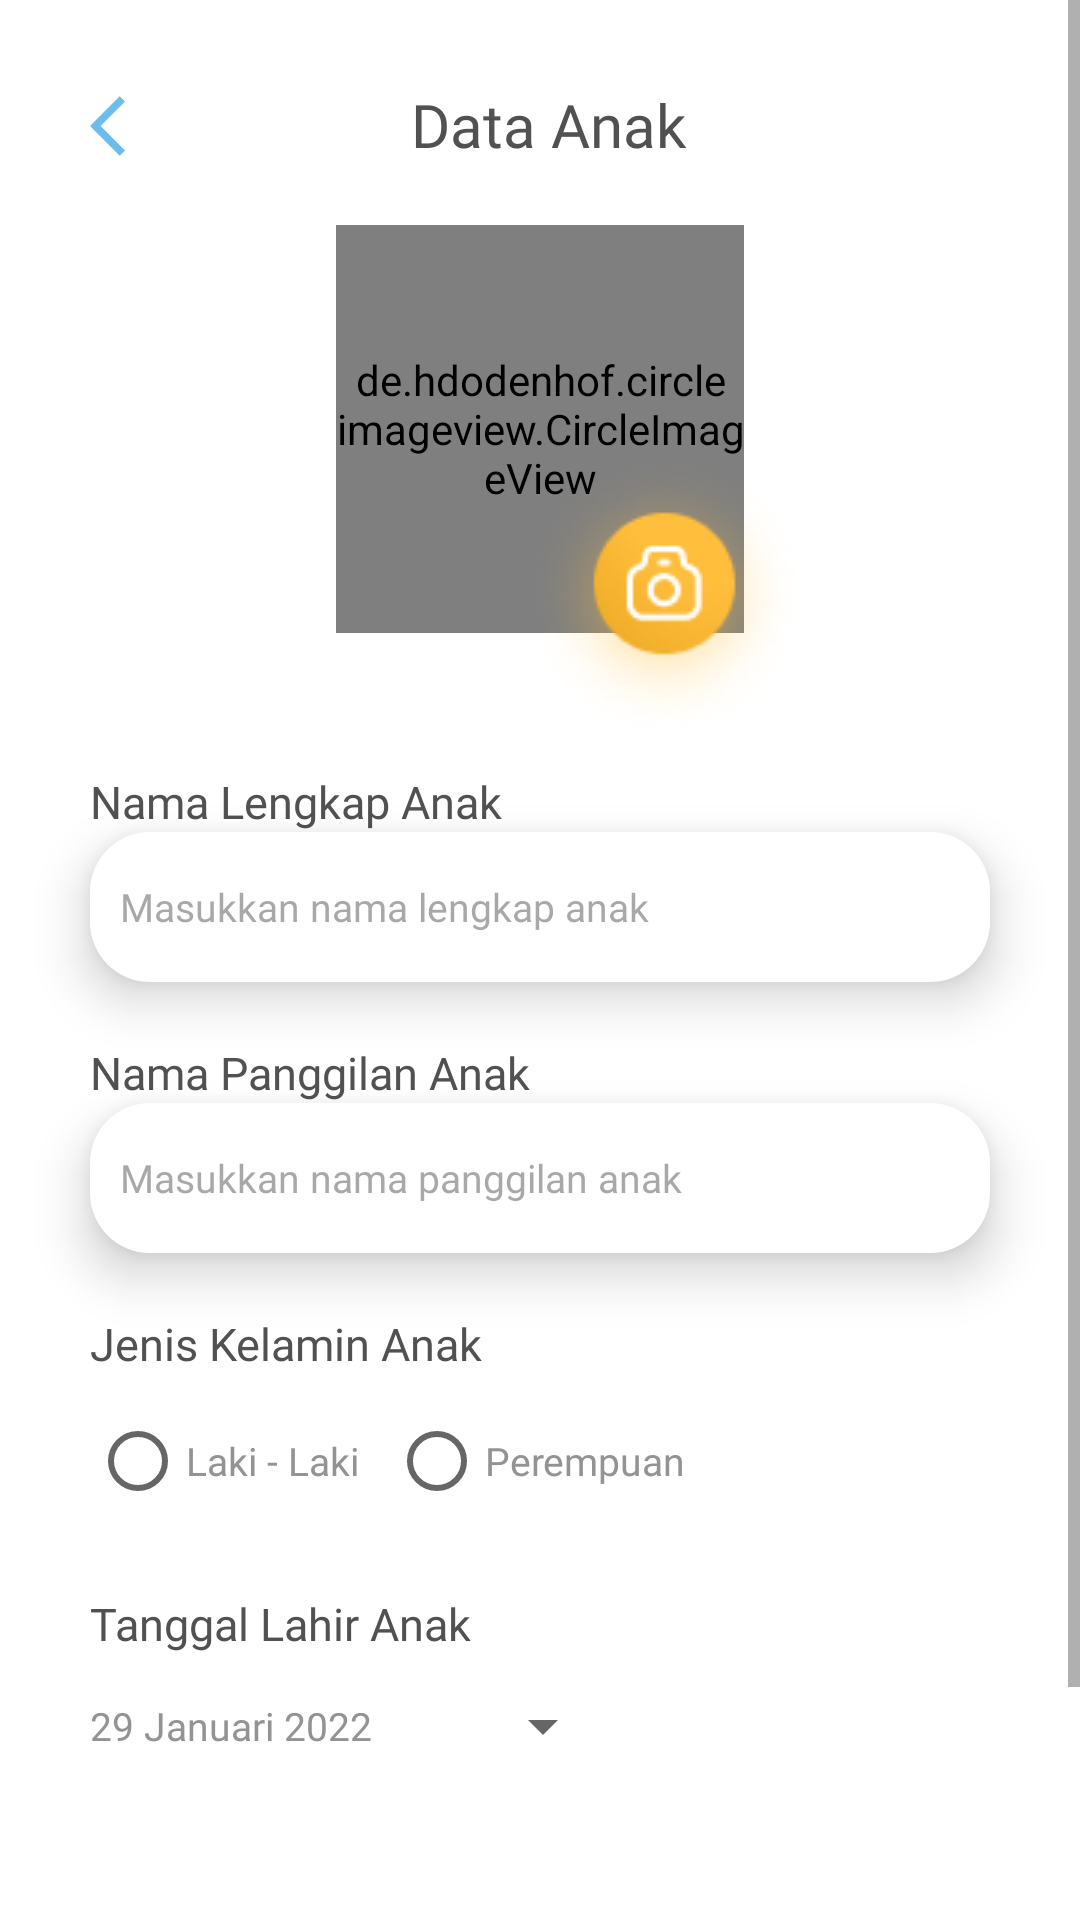

Icons on this 1080px×1920px Android screen, each with the point to tap as point (x, y):
arrowback: point (107, 126)
